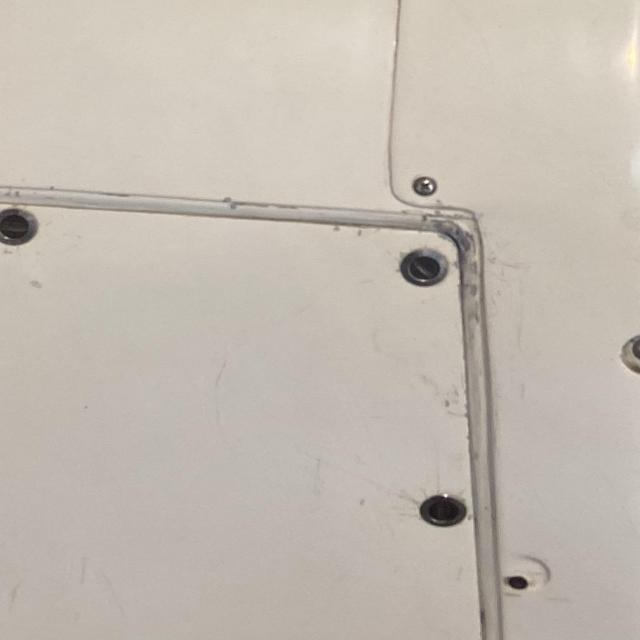Missing-head: (503, 574, 543, 597)
